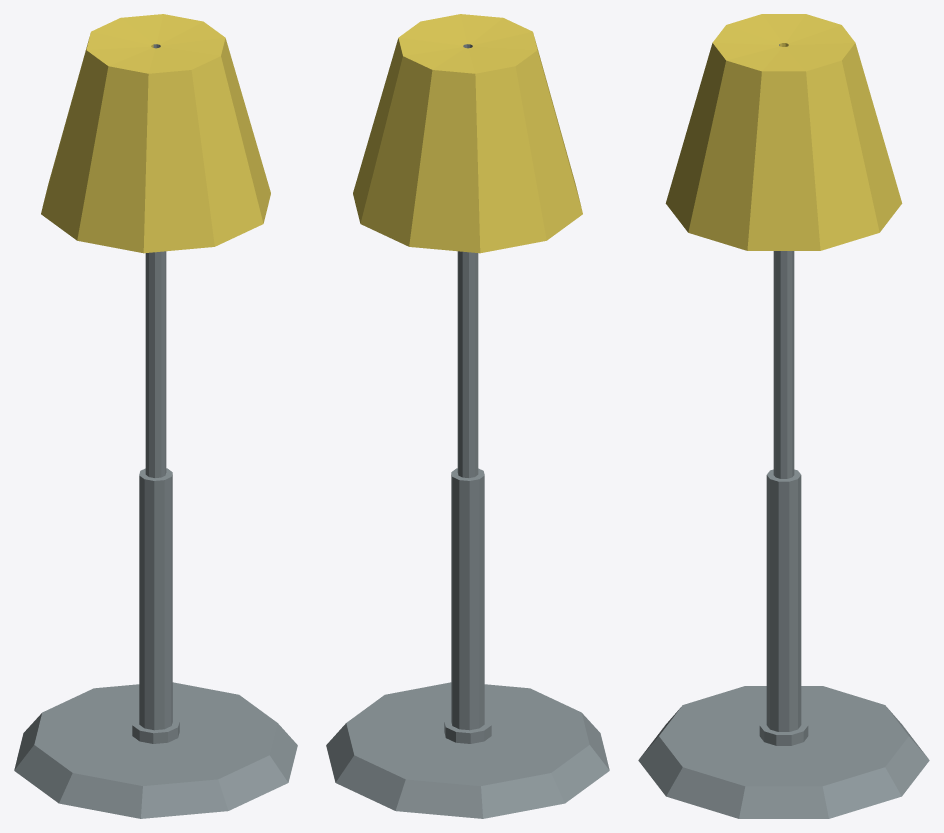
Rendered from tall_lamp.fbx.
3 views of the same model, side by side, from view 1: azimuth 30°, elevation 25°; view 2: azimuth 150°, elevation 25°; view 3: azimuth 270°, elevation 25° (orthographic).
Visible parts, largest first — view 1: tall_lamp; view 2: tall_lamp; view 3: tall_lamp.
Boxes of the visible parts, x1,y1,x2,y2 form: tall_lamp: (14, 14, 297, 818); tall_lamp: (326, 14, 609, 818); tall_lamp: (638, 14, 929, 818).
Size of the model in its own units: 49.45 by 141 by 52.
